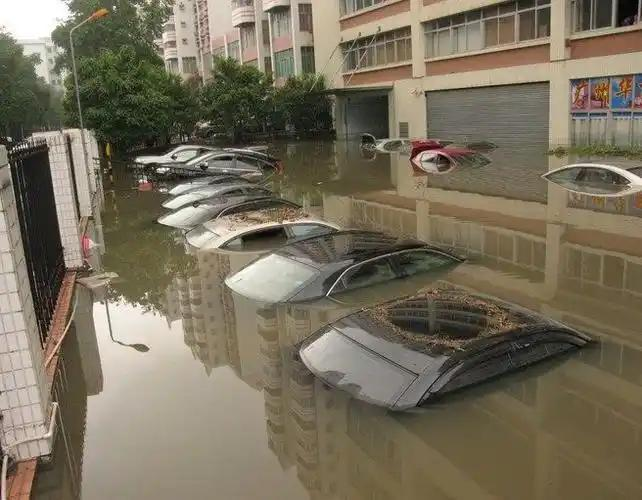water: (32, 165, 639, 499), (276, 140, 640, 353)
